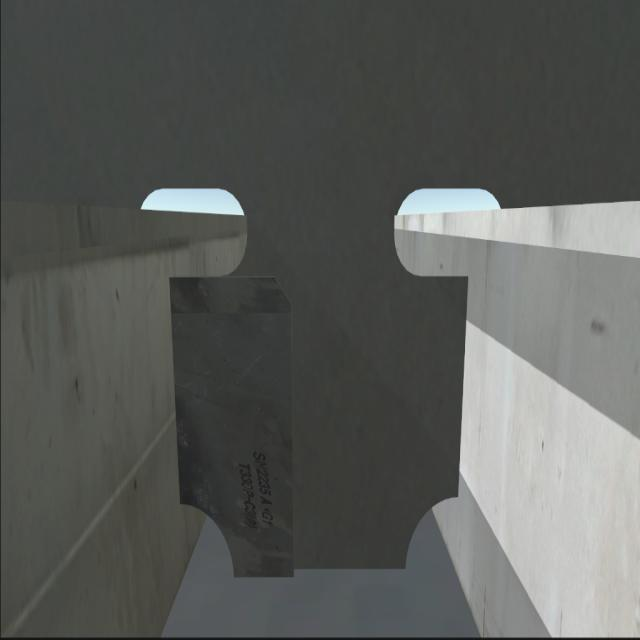fillet_hole: (406, 493, 464, 567), (182, 499, 235, 577)
fillet_yong_jeop_jang: (231, 558, 418, 582)
longi_yong_jeop_jang: (165, 272, 187, 508), (454, 268, 468, 489)
plate_CP03: (173, 278, 298, 580)
